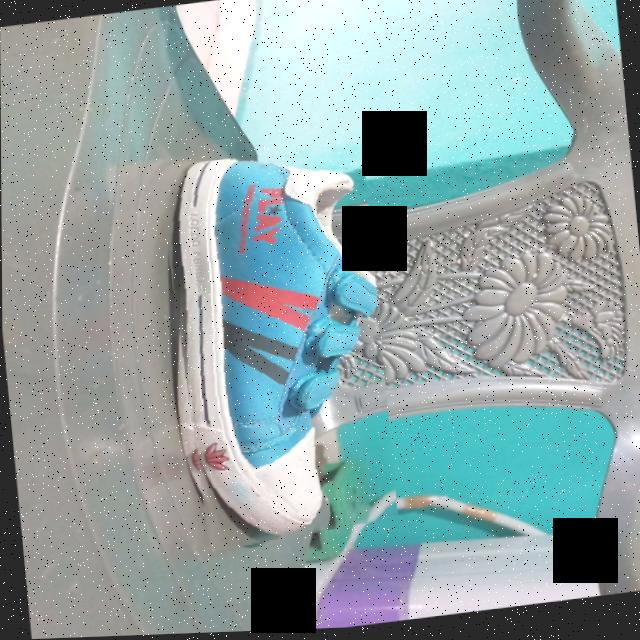shoe: (155, 144, 398, 556)
